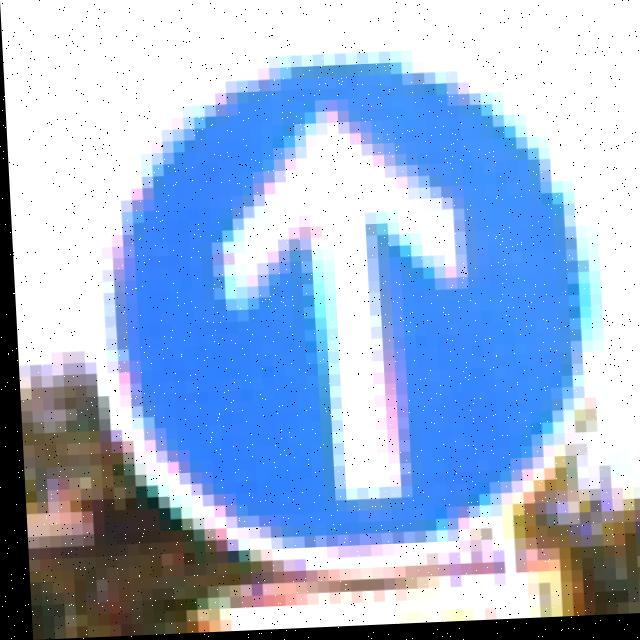compulsory_ahead: (77, 50, 626, 568)
